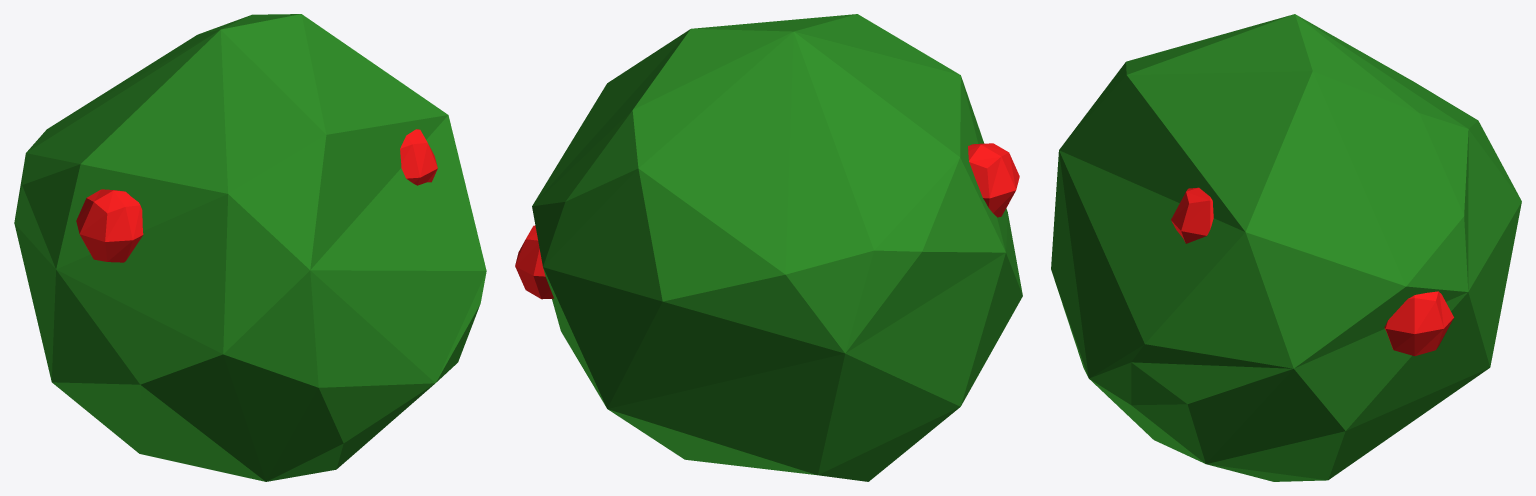
The model's file is bush.FBX.
3 views of the same model, side by side, from view 1: azimuth 30°, elevation 25°; view 2: azimuth 150°, elevation 25°; view 3: azimuth 270°, elevation 25° (orthographic). The views are drawn at different scales.
Parts seen in each view (by area): view 1: Box019, Box022, Box020; view 2: Box019, Box022, Box021; view 3: Box019, Box021, Box020.
Boxes of the visible parts, box(x1,y1,x2,y2) form: Box019: box(14, 14, 486, 481); Box022: box(76, 189, 143, 262); Box020: box(400, 129, 437, 185); Box019: box(532, 14, 1022, 481); Box022: box(968, 143, 1019, 217); Box021: box(515, 225, 553, 299); Box019: box(1051, 14, 1521, 481); Box021: box(1384, 291, 1453, 356); Box020: box(1171, 187, 1213, 243).
Bounding box in the file's own units: 41.89 × 41.61 × 41.15.
